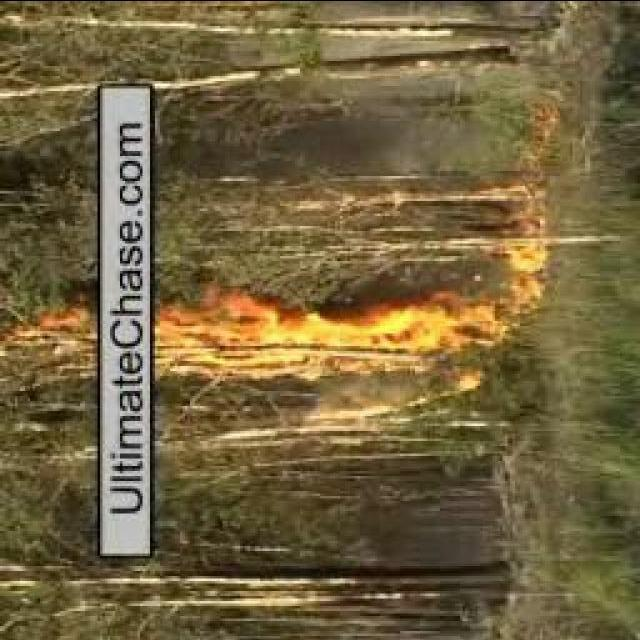Fire: (158, 284, 458, 382), (466, 232, 564, 352), (8, 306, 101, 378)
